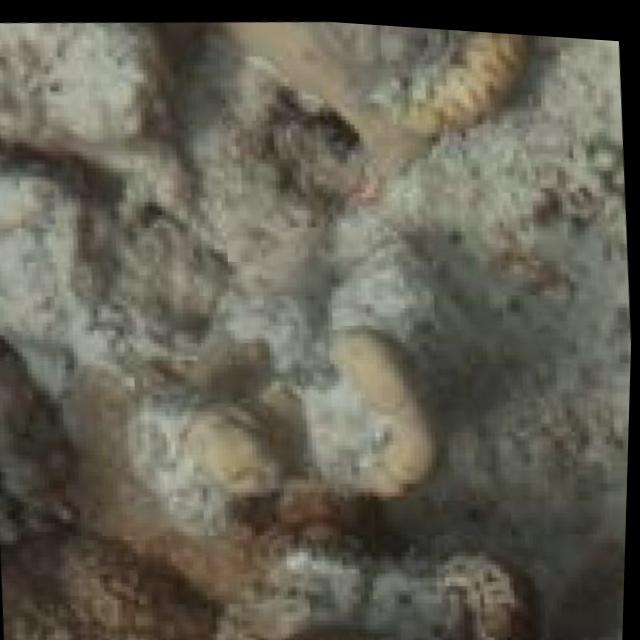Healthy Coral: (0, 492, 262, 640)
